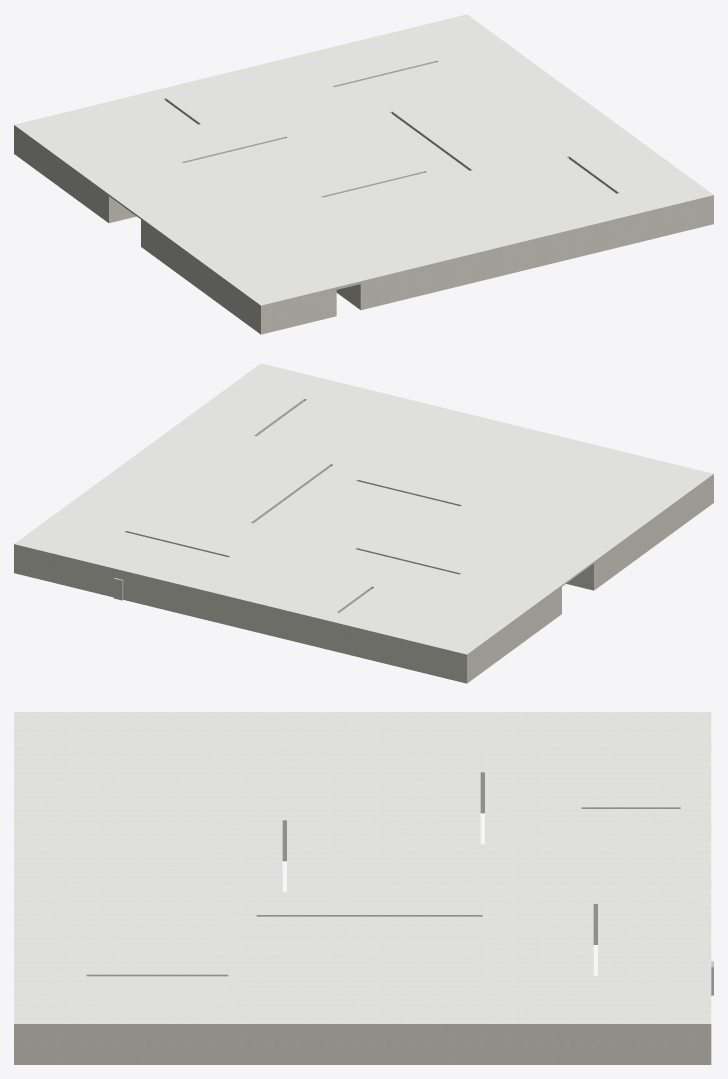
The model's file is gbi_L3_2.glb.
The picture shows the model from 3 angles, top to bottom: view 1: azimuth 30°, elevation 25°; view 2: azimuth 150°, elevation 25°; view 3: azimuth 270°, elevation 25°; orthographic projection. The views are drawn at different scales.
Visible parts, largest first — view 1: M_D_ceil_L3, M_D_wall_L3, M_GBI_kit; view 2: M_D_ceil_L3, M_D_wall_L3; view 3: M_D_ceil_L3, M_D_wall_L3.
Boxes of the visible parts, x1=… form: M_D_ceil_L3: x1=14, y1=14, x2=713, y2=305; M_D_wall_L3: x1=14, y1=61, x2=713, y2=334; M_GBI_kit: x1=109, y1=196, x2=360, y2=309; M_D_ceil_L3: x1=14, y1=363, x2=713, y2=654; M_D_wall_L3: x1=14, y1=399, x2=713, y2=683; M_D_ceil_L3: x1=14, y1=712, x2=711, y2=1023; M_D_wall_L3: x1=14, y1=772, x2=713, y2=1064.
Bounding box in the file's own units: 52.2 × 3.2 × 49.5.
Materials: 17 (8 with a texture image).
